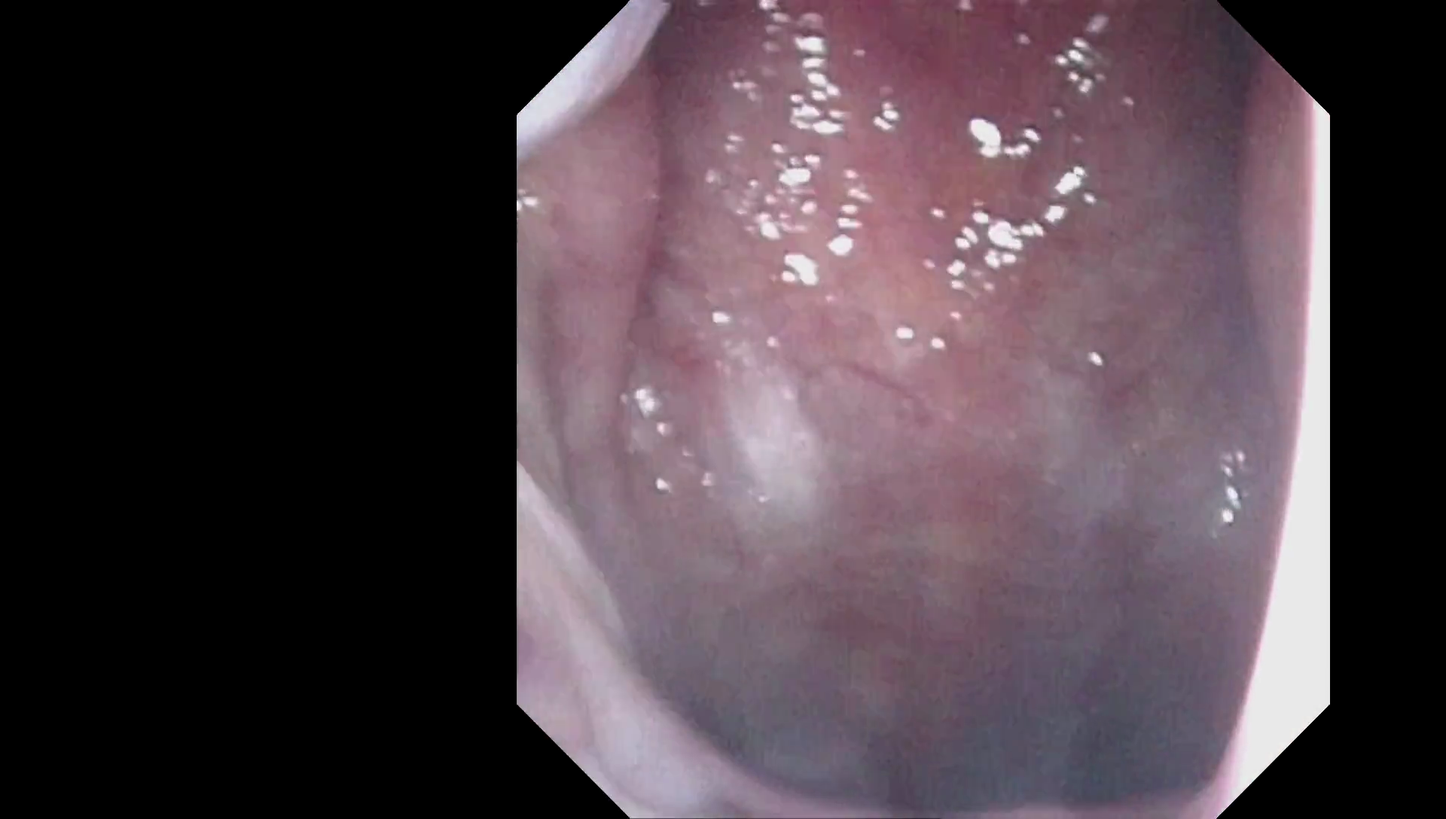next: (715, 602, 1267, 817)
